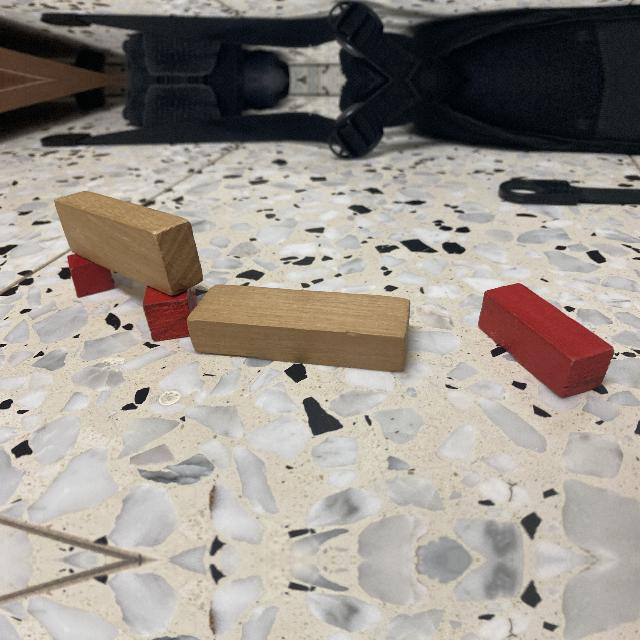jenga: (188, 285, 411, 372), (56, 191, 203, 297)
red block: (478, 283, 614, 399)
red cube: (143, 286, 190, 342), (69, 255, 118, 298)
